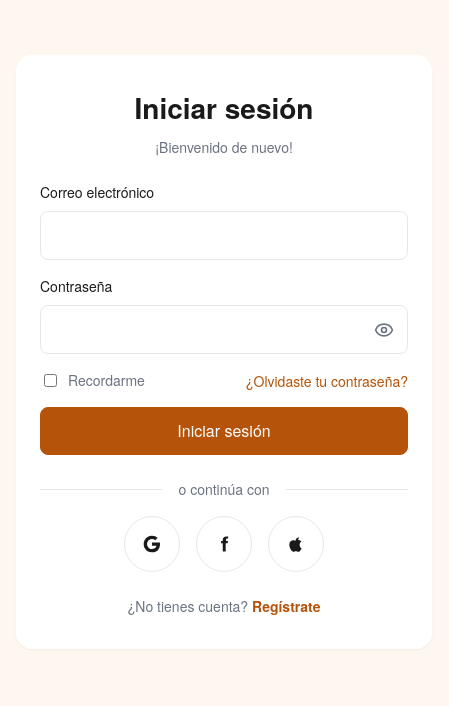
Test: vigilancia de la sesión › no confunde unas credenciales equivocadas con una sesión perdida
This screenshot has width=449, height=706.
Step 1. Type "persona@moica.test" into the field labelled "Correo electrónico" → x=224, y=236, box [40,211,408,260]
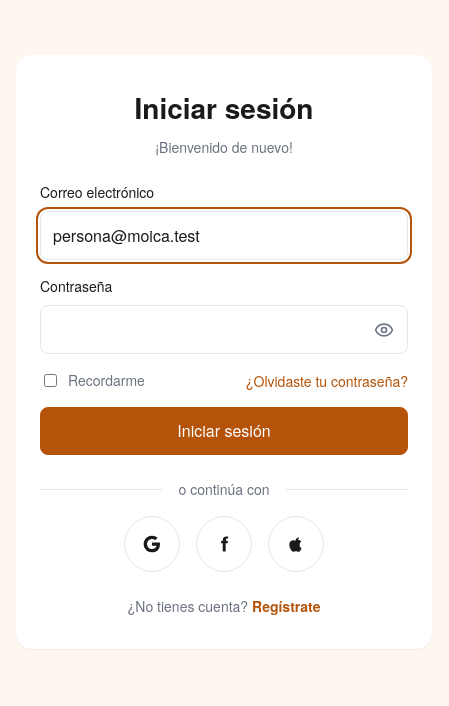
Step 2. Type "Moica2026$equivocada" into the password field labelled "Contraseña" → x=224, y=330, box [40,305,408,354]
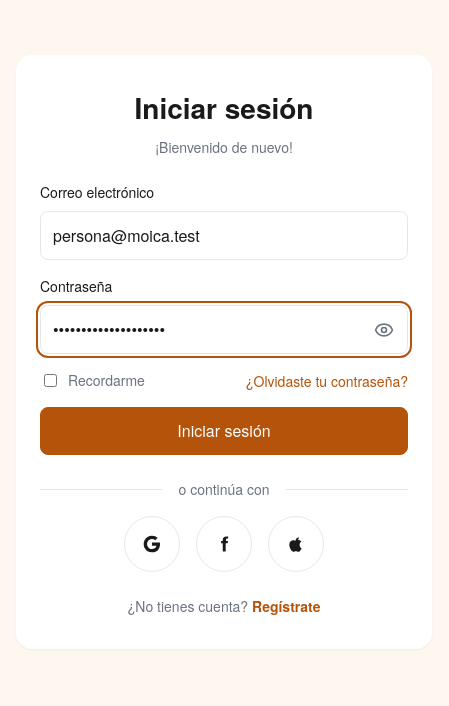
Step 3. Click the button "Iniciar sesión" → x=224, y=431, box [40,407,408,455]
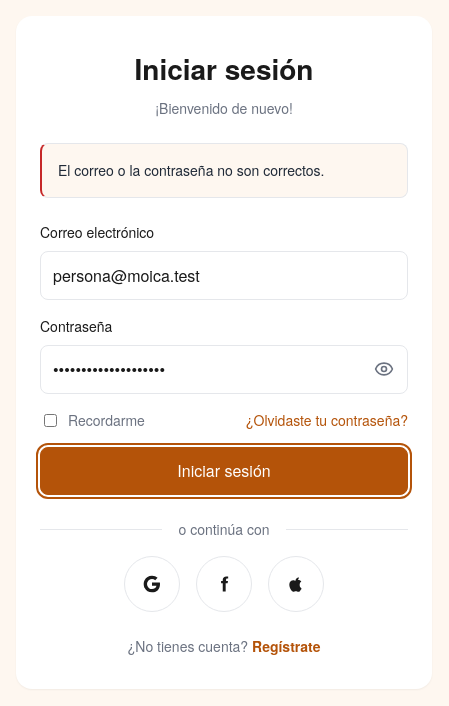
Check: the message reads "El correo o la contraseña no son correctos.", box [58,160,324,180]
